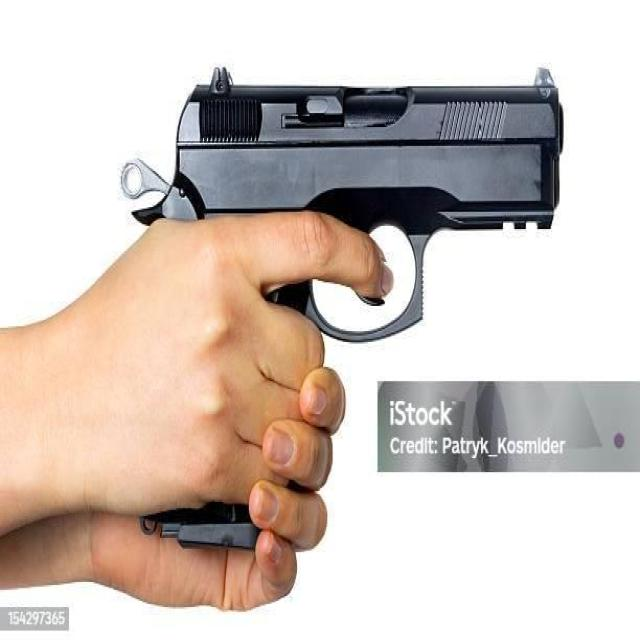gun: (120, 66, 564, 345), (139, 505, 262, 552)
